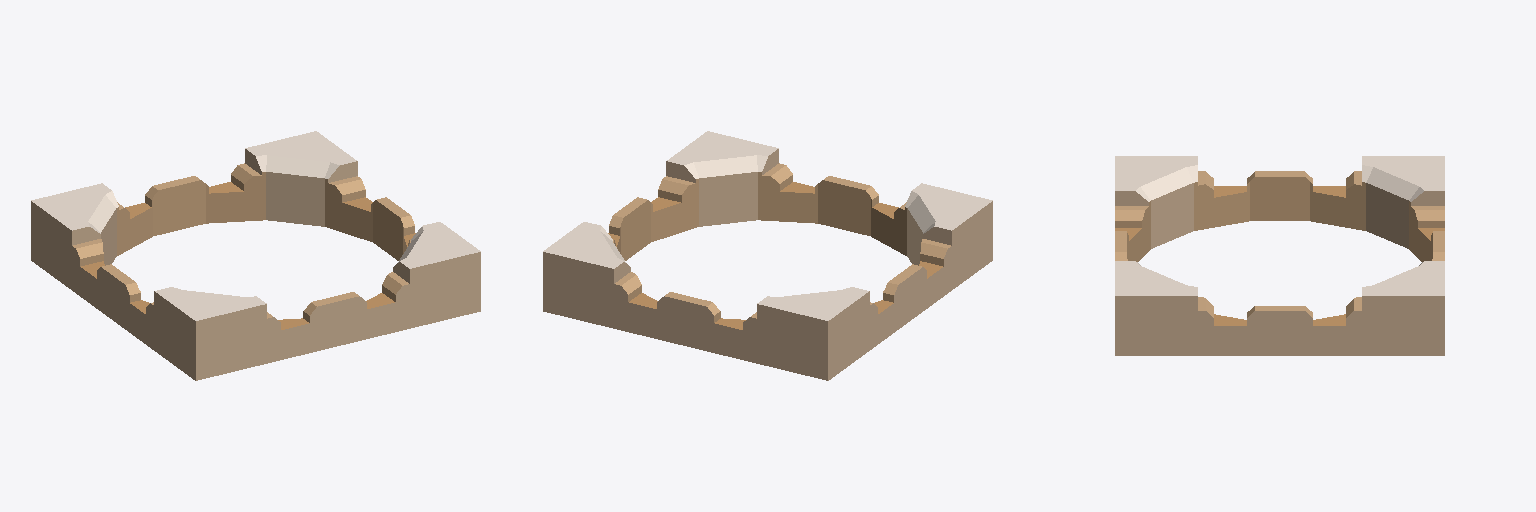
The model's file is Puzzle_Track_Rotating_Housing_Cross.obj.
3 views of the same model, side by side, from view 1: azimuth 30°, elevation 25°; view 2: azimuth 150°, elevation 25°; view 3: azimuth 270°, elevation 25° (orthographic).
Visible parts, largest first — view 1: object1; view 2: object1; view 3: object1.
Boxes of the visible parts, box(x1,y1,x2,y2) form: object1: box(31, 131, 480, 380); object1: box(543, 131, 992, 380); object1: box(1115, 156, 1444, 355).
Bounding box in the file's own units: 1 × 0.2 × 1.